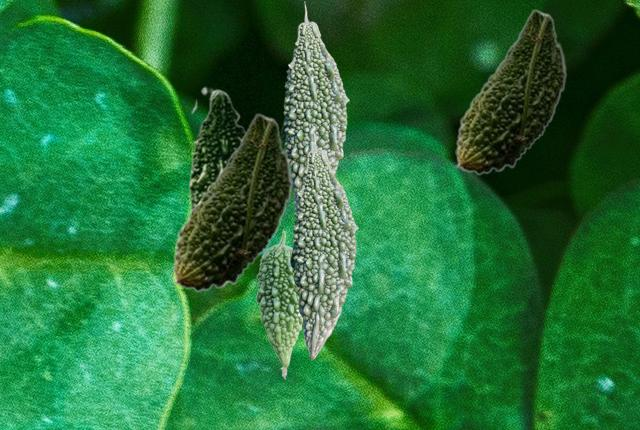ampalaya: (172, 113, 292, 291), (455, 9, 566, 174), (290, 129, 357, 359), (281, 1, 348, 208), (188, 86, 245, 286), (255, 230, 301, 378)
